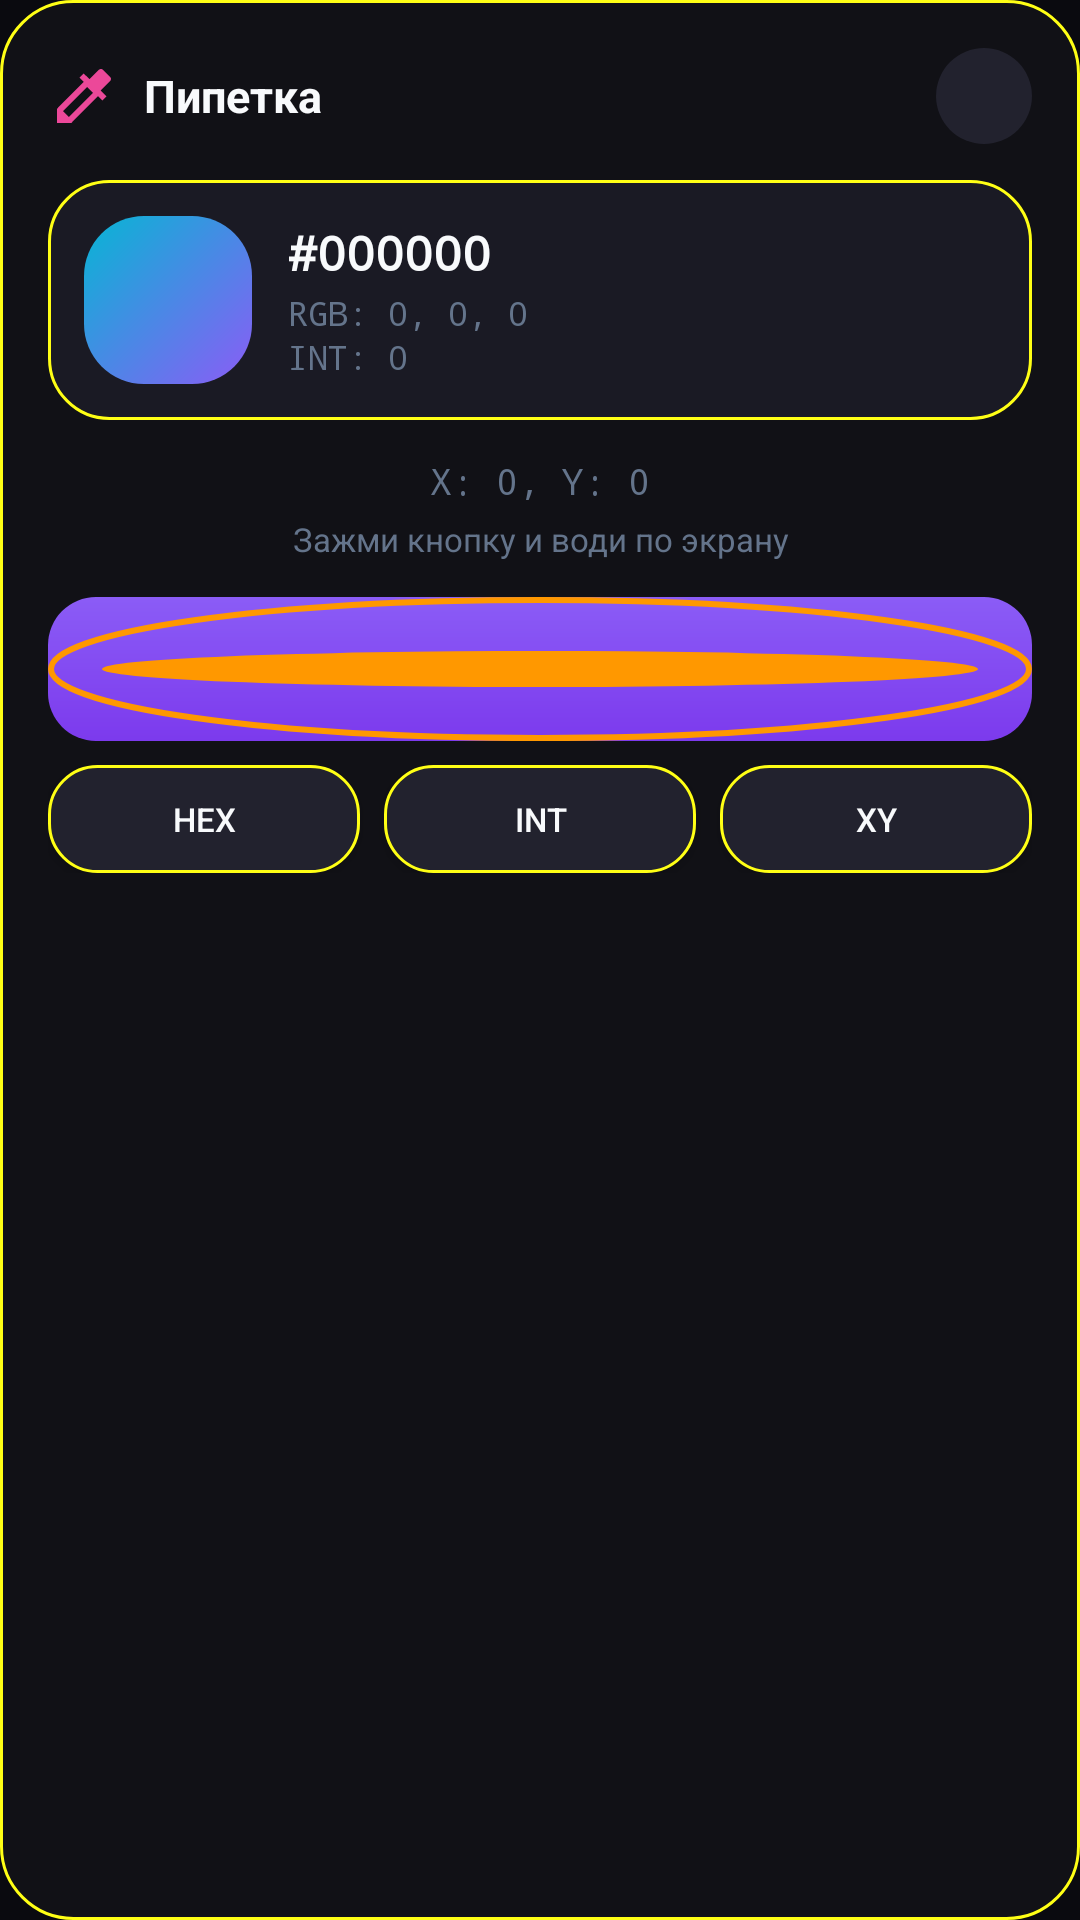

Icon bounding boxes for this 1080*1920 phone screenshot, format region(x1, y1, x2, y2):
colorpicker: region(57, 69, 111, 123)
